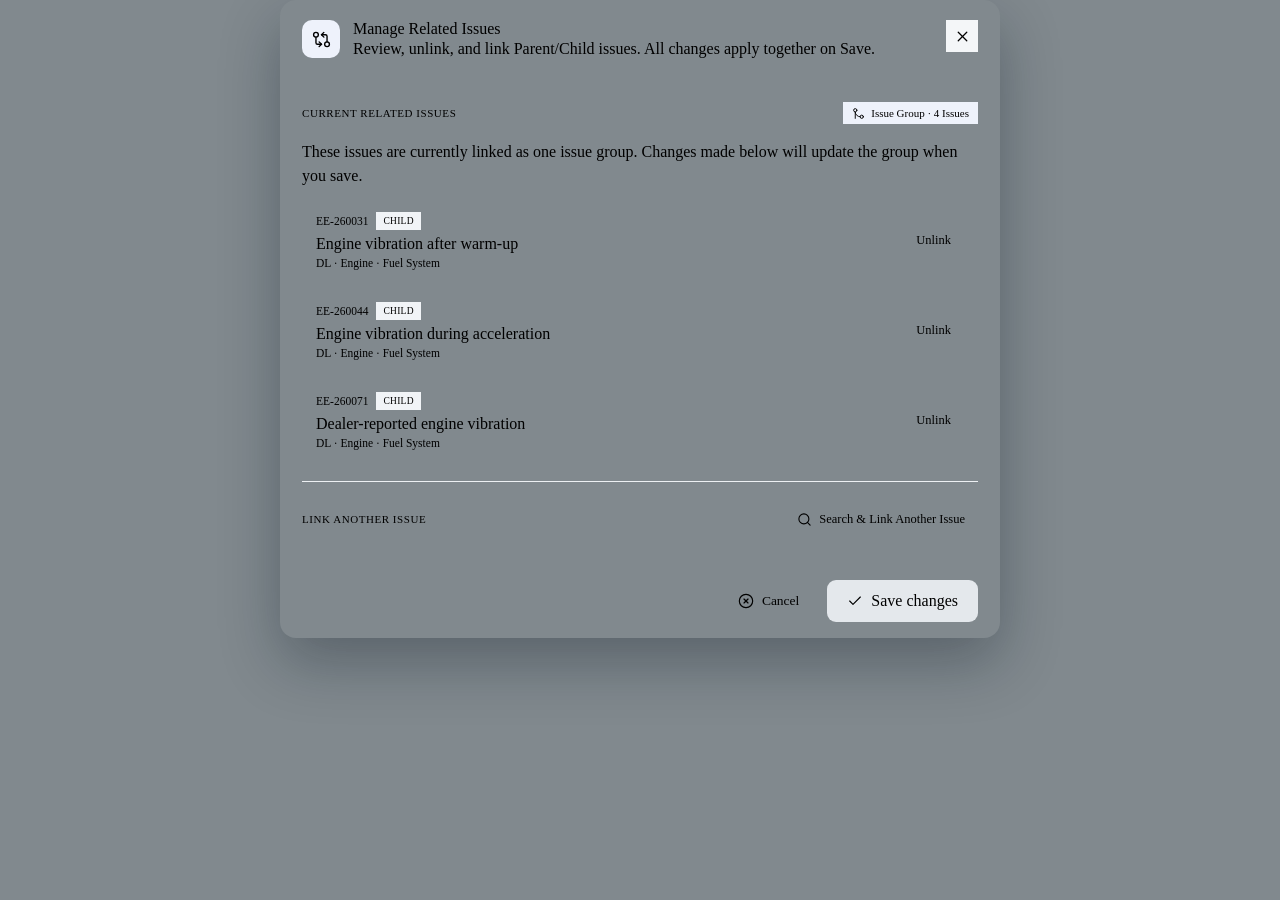
Test: the search panel — closed until asked for › opens to an idle prompt, not to an empty result list
Click the button "Search & Link Another Issue": {"x": 881, "y": 519} [784, 502, 978, 536]
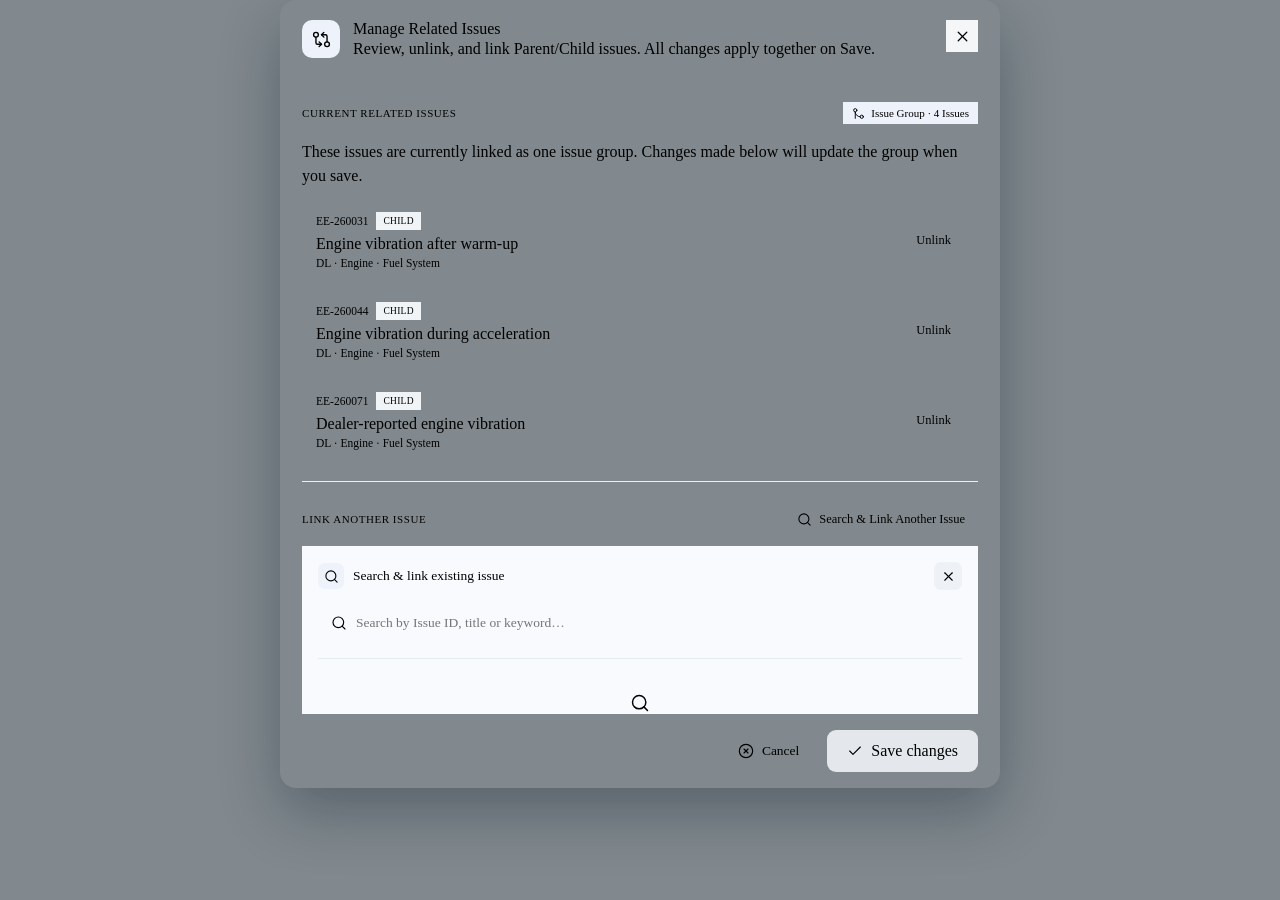
Expected: the field labelled "Issue ID" is shown, [318, 602, 962, 644]
